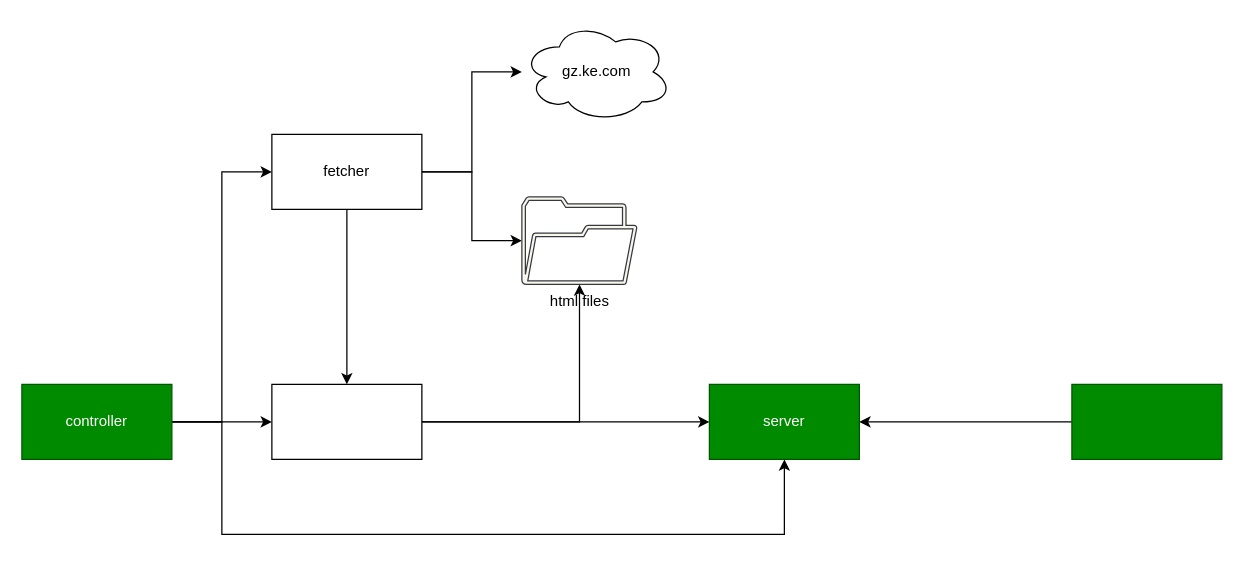
Image size: 1244x566. Some labels were removed from this diagram. The shapes that lost their labels are listed below. From the top down, each one's centre as x and y in pixels, then its label:
At (x=346, y=421): "extractor".
At (x=1146, y=421): "client".
